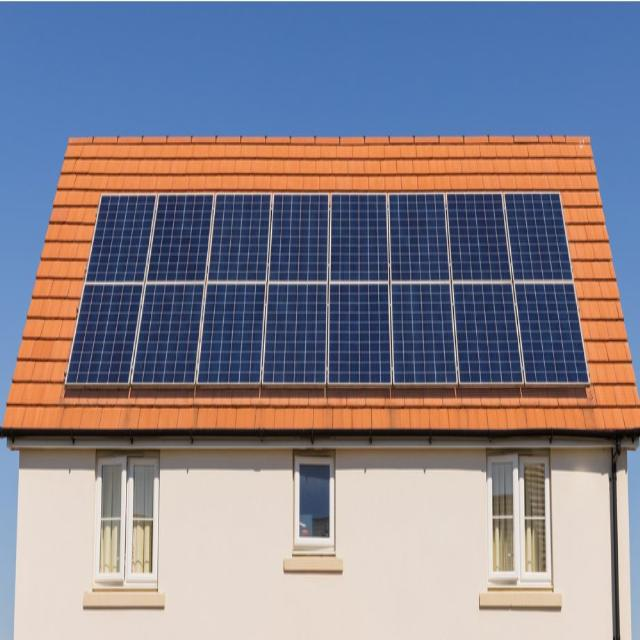clean-solar-panel: (454, 284, 522, 382)
